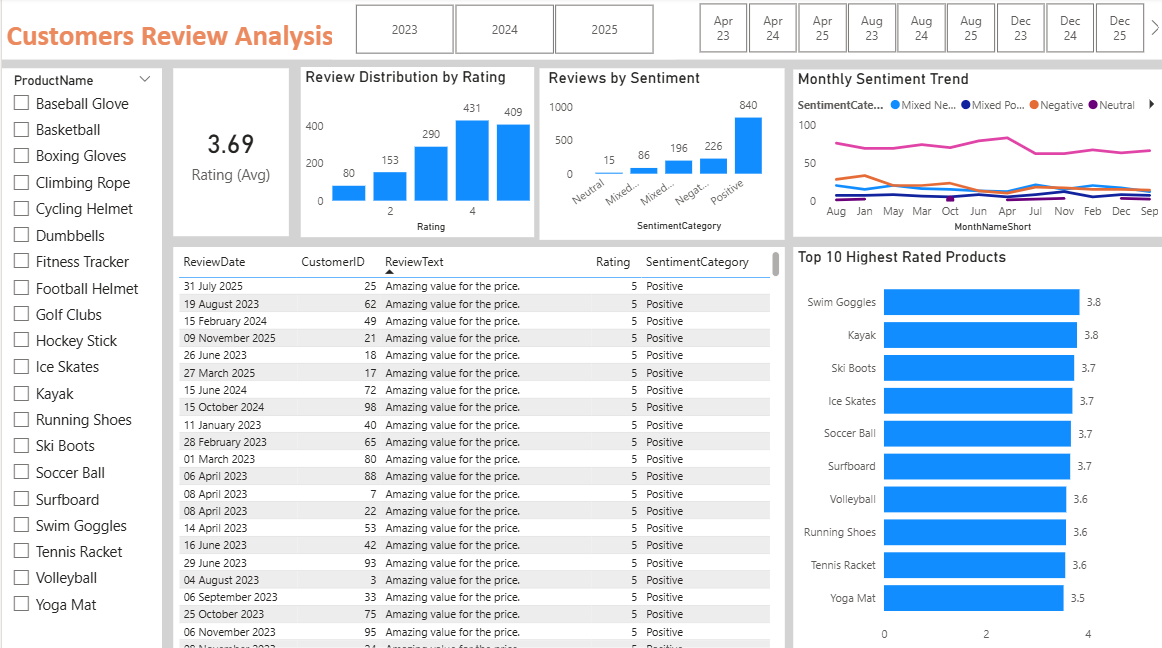

The page's visual inventory and layout, read from the dashboard file:
{"tool":"powerbi","page":{"name":"Duplicate of Page 1","canvas":[1280,720],"ordinal":3},"visuals":[{"type":"textbox","box":[0,0,1280.3,68.6],"z":0},{"type":"slicer","fields":{"Values":["dim_products.ProductName"]},"box":[0,78.4,176,642.2],"z":1000},{"type":"card","fields":{"Values":["select","Calculations.AVG (Rating)"]},"box":[188.2,78.8,127.1,185],"z":2000},{"type":"slicer","fields":{"Values":["Calendar.Year"]},"box":[363.5,1.6,378,67.6],"z":3000},{"type":"slicer","fields":{"Values":["Calendar.YearMonthShort"]},"box":[741.5,0,538.8,67.6],"z":4000},{"type":"clusteredColumnChart","title":"Review Distribution by Rating","fields":{"Y":["Calculations.Number of Customer Reviews"],"Category":["fact_customer_reviews_with_sentiment.Rating"]},"box":[328.7,77,257.2,187],"z":5000},{"type":"columnChart","title":"Reviews by Sentiment","fields":{"Y":["Calculations.Number of Customer Reviews"],"Category":["fact_customer_reviews_with_sentiment.SentimentCategory"]},"box":[591.3,78.4,269.5,189],"z":6000},{"type":"lineChart","title":"Monthly Sentiment Trend","fields":{"Y":["Calculations.Number of Customer Reviews"],"Category":["Calendar.MonthNameShort"],"Series":["fact_customer_reviews_with_sentiment.SentimentCategory"]},"box":[870.5,79.8,409.8,184.3],"z":7000},{"type":"tableEx","fields":{"Values":["fact_customer_reviews_with_sentiment.ReviewDate","fact_customer_reviews_with_sentiment.CustomerID","fact_customer_reviews_with_sentiment.ReviewText","fact_customer_reviews_with_sentiment.Rating","fact_customer_reviews_with_sentiment.SentimentCategory"]},"box":[188.4,275,672.5,445.6],"z":8000},{"type":"clusteredBarChart","title":"Top 10 Highest Rated Products","fields":{"Category":["dim_products.ProductName"],"Y":["Calculations.AVG (Rating)"]},"box":[870.9,275.3,409.4,444.6],"z":8003}]}

Visuals, with their boxes in screenshot pixels (x1, y1, x2, y2), scaled from the page's 1280x720 canvas onto the 1162x648 screenshot:
textbox: box=[0, 0, 1161, 62]
slicer - dim_products.ProductName: box=[0, 71, 160, 647]
card - select x Calculations.AVG (Rating): box=[171, 71, 286, 237]
slicer - Calendar.Year: box=[330, 1, 673, 62]
slicer - Calendar.YearMonthShort: box=[673, 0, 1161, 61]
"Review Distribution by Rating" clusteredColumnChart: box=[298, 69, 532, 238]
"Reviews by Sentiment" columnChart: box=[537, 71, 781, 241]
"Monthly Sentiment Trend" lineChart: box=[790, 72, 1161, 238]
tableEx - fact_customer_reviews_with_sentiment.ReviewDate x fact_customer_reviews_with_sentiment.CustomerID: box=[171, 248, 782, 647]
"Top 10 Highest Rated Products" clusteredBarChart: box=[791, 248, 1161, 647]
